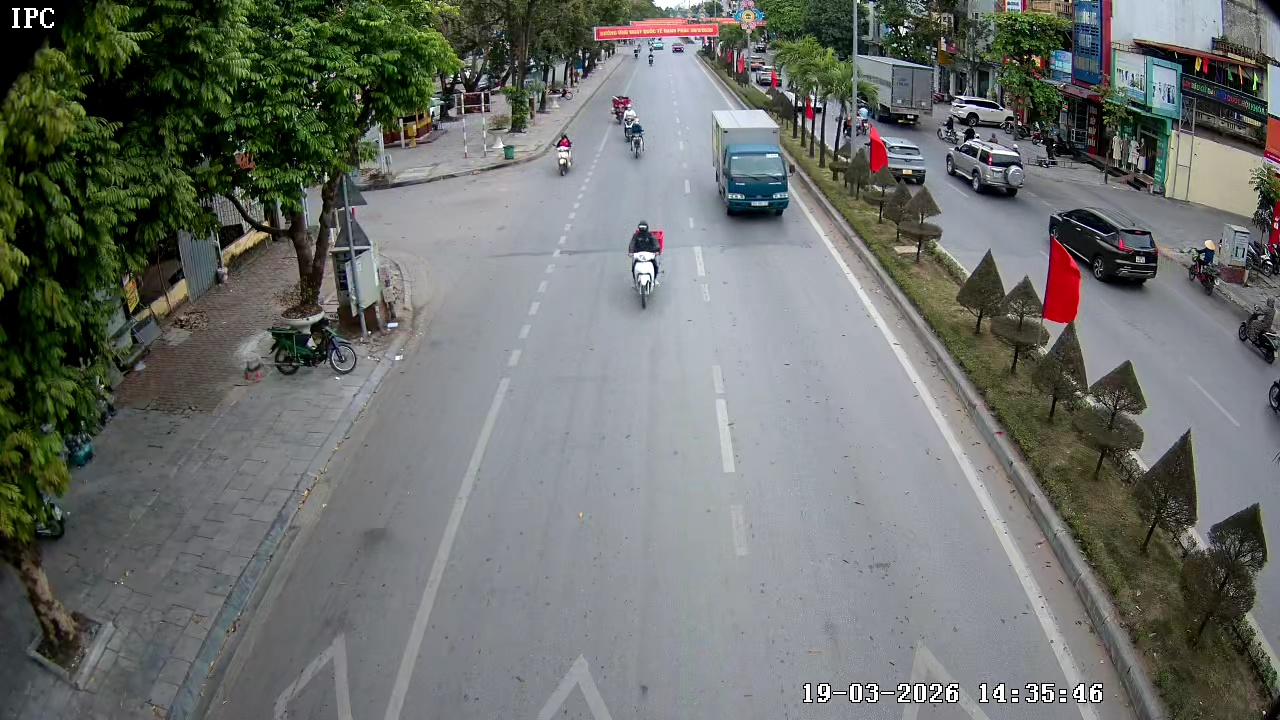bike: (611, 93, 629, 124)
car: (1046, 203, 1159, 287), (945, 131, 1024, 196)
exception: (623, 103, 636, 123)
motorbike: (266, 314, 366, 377), (626, 220, 665, 310), (553, 130, 578, 178), (628, 119, 648, 158)
truck: (712, 107, 791, 220)
